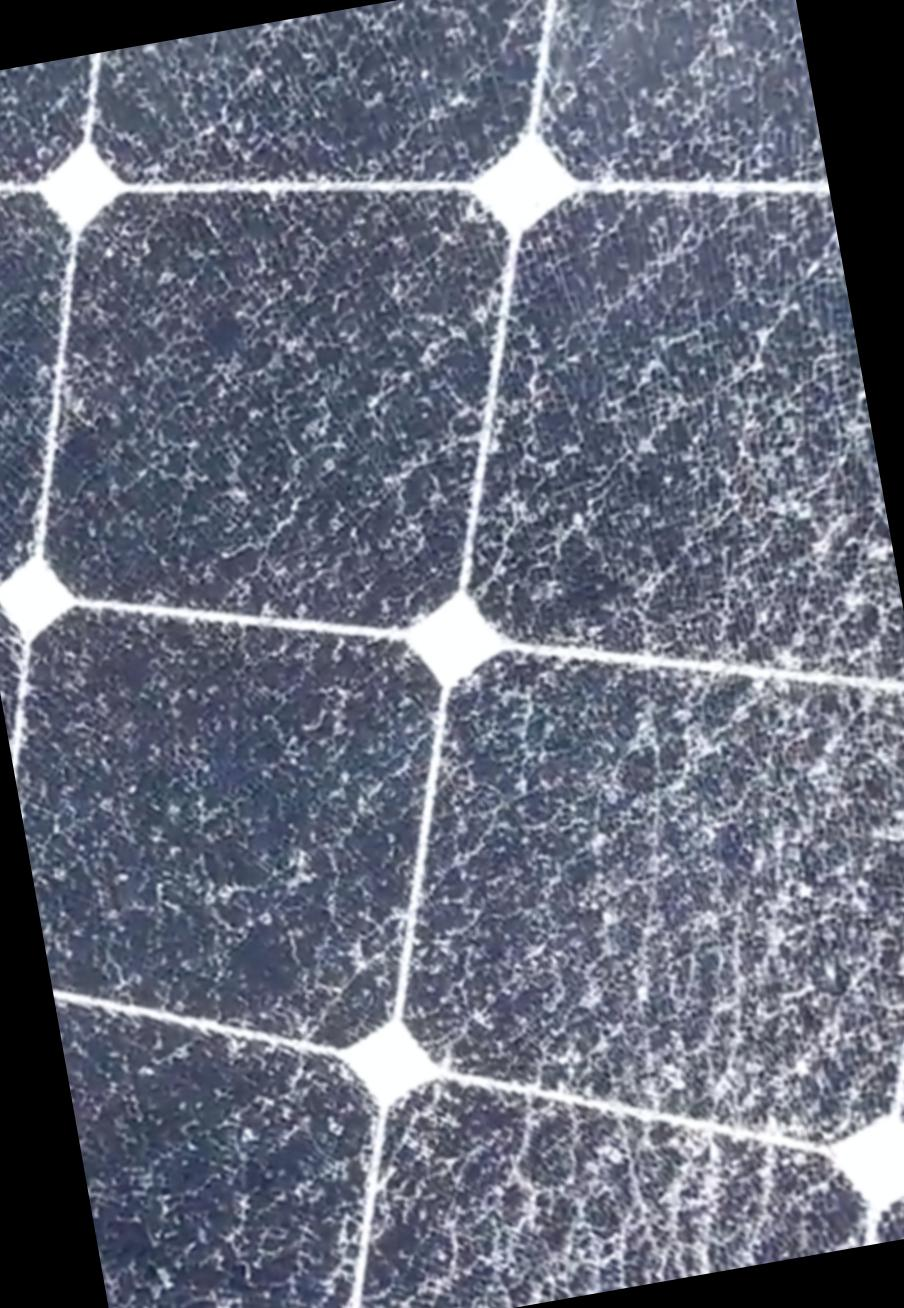Crack: (359, 261, 903, 1303)
